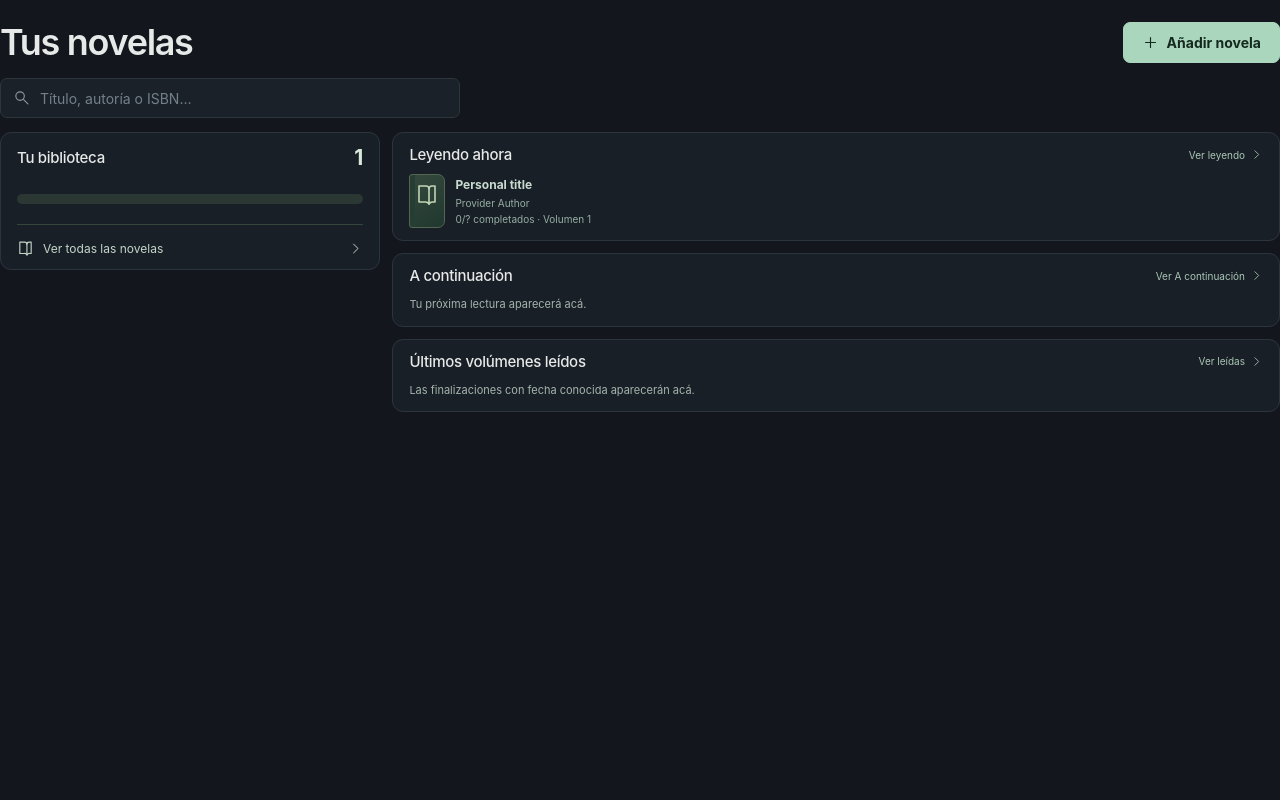
it: terminar muestra metadata del siguiente sin empezarlo
Click the button with aria-label "Abrir novela Personal title": (427, 201) left=409, top=174, right=832, bottom=228
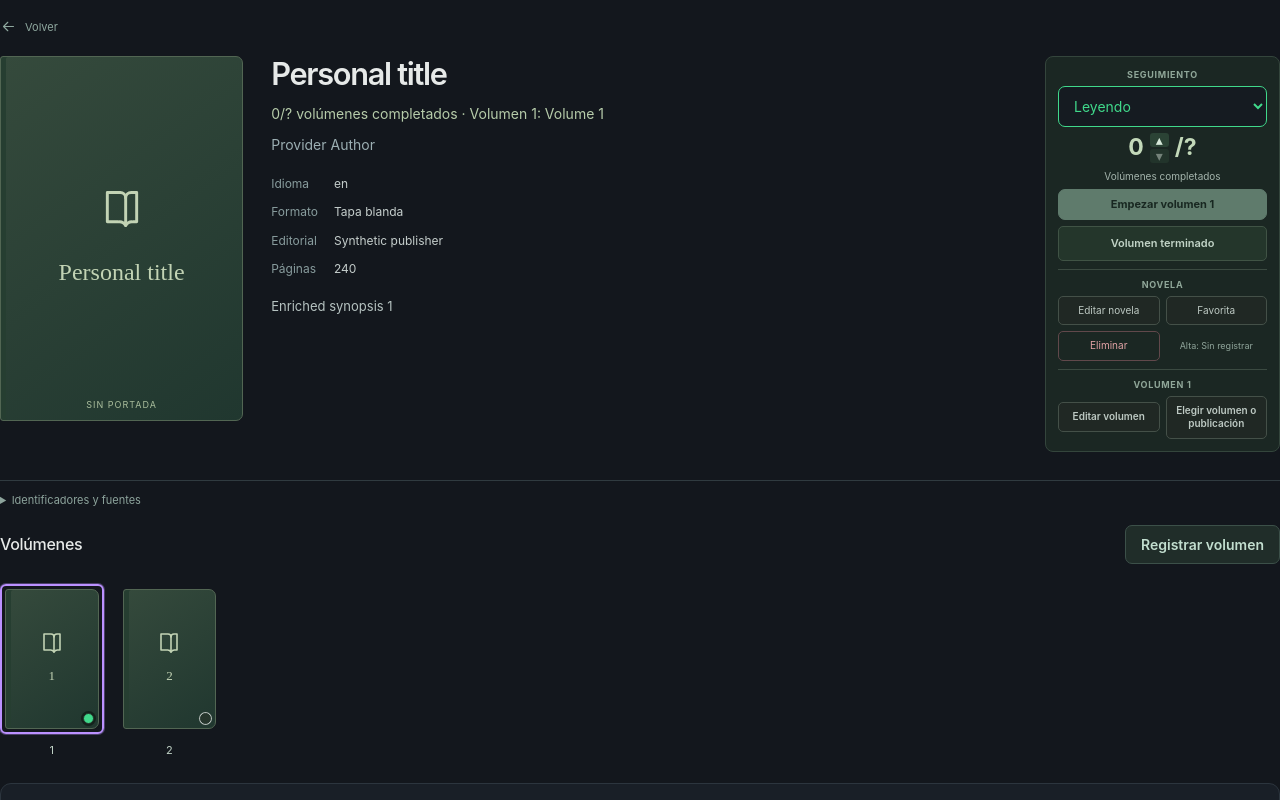
Click the button "Volumen terminado": (1162, 243) left=1058, top=226, right=1267, bottom=261
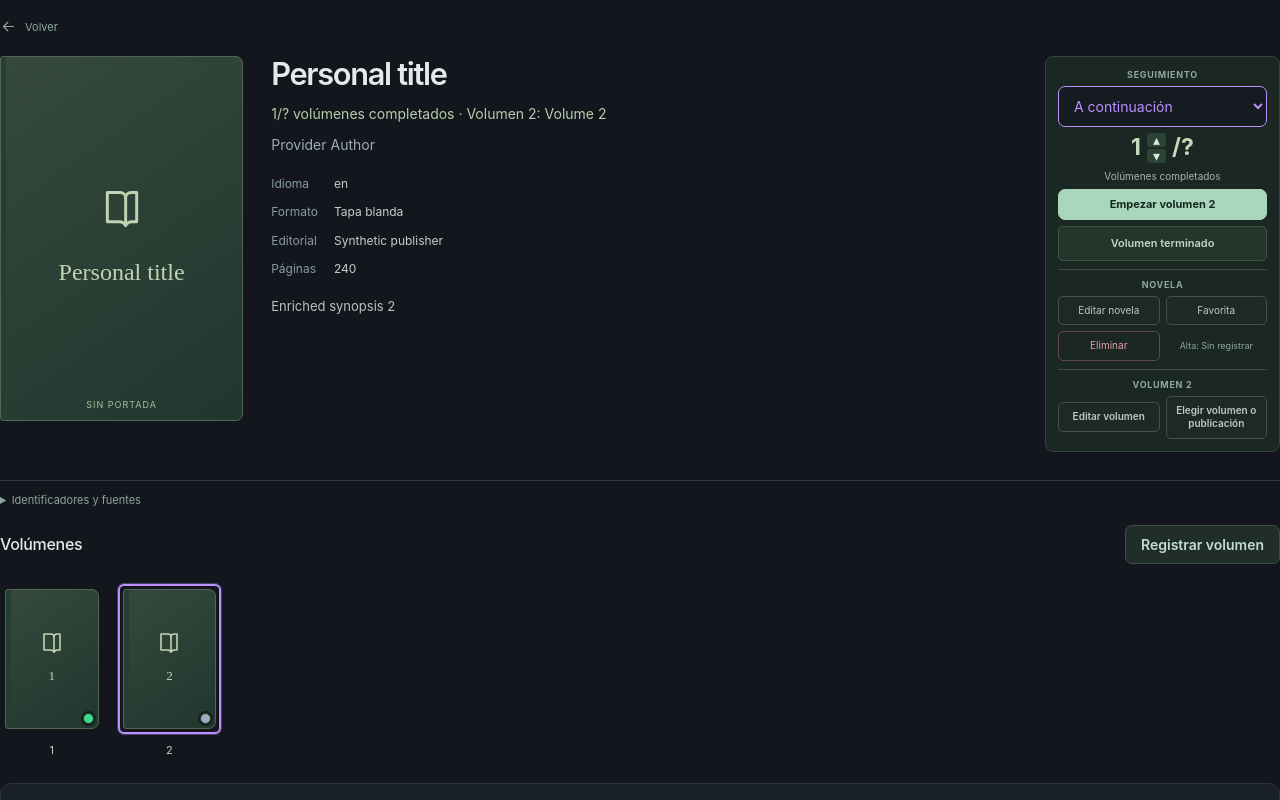
Expected: the text "Enriched synopsis 2" is shown, left=271, top=298, right=395, bottom=314
